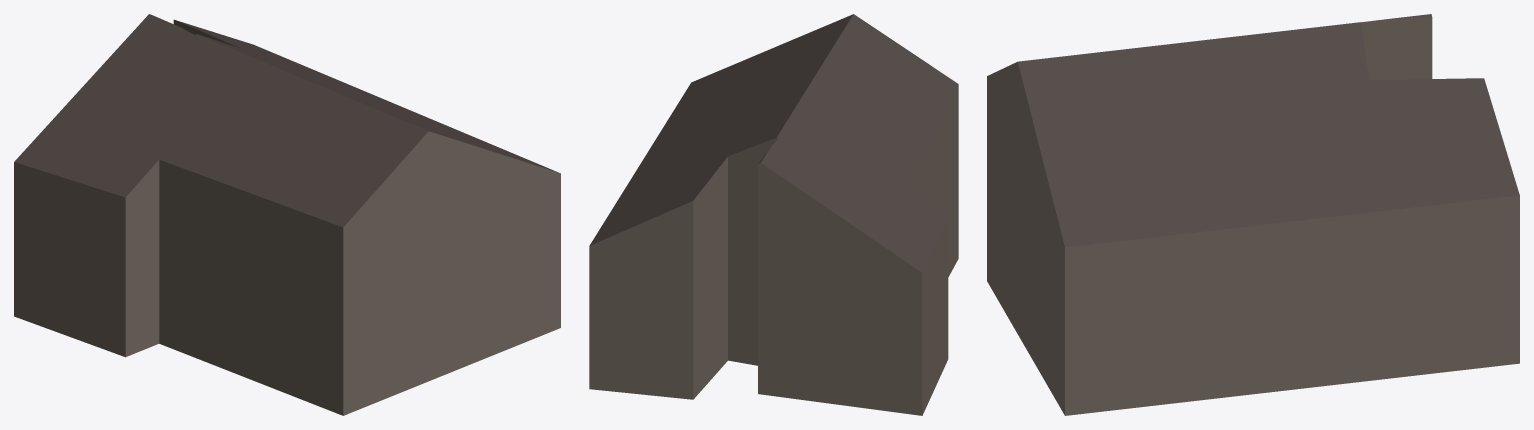
3 views of the same model, side by side, from view 1: azimuth 30°, elevation 25°; view 2: azimuth 150°, elevation 25°; view 3: azimuth 270°, elevation 25° (orthographic). The views are drawn at different scales.
Visible parts, largest first — view 1: HP-w783664790; view 2: HP-w783664790; view 3: HP-w783664790.
Boxes of the visible parts, x1,y1,x2,y2 form: HP-w783664790: (14, 14, 560, 415); HP-w783664790: (589, 14, 958, 415); HP-w783664790: (987, 14, 1519, 415).
Bounding box in the file's own units: 16.18 × 9.71 × 17.21.
